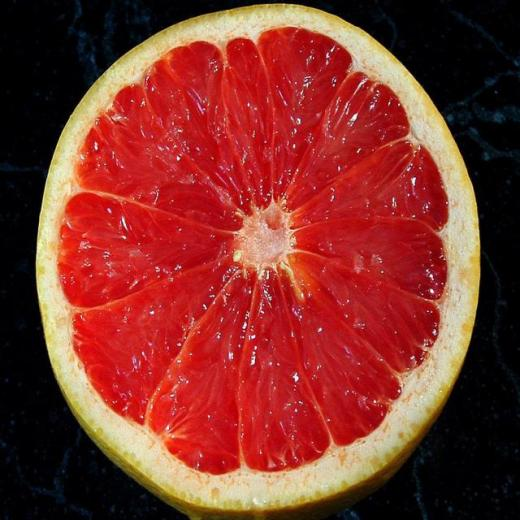Grape: (35, 3, 481, 520)
